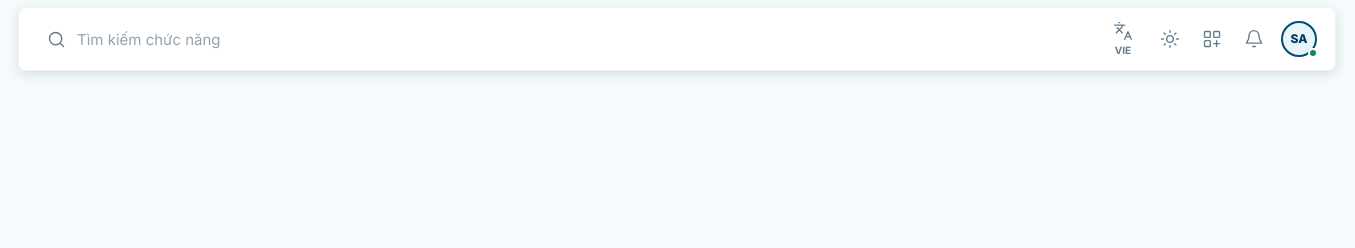
Test: AppTopbar › tìm kiếm chỉ gợi ý màn mà người dùng có quyền
The width and height of the screenshot is (1355, 248).
Focus the search field with placeholder "Tìm kiếm chức năng" at (576, 39), box 77,20 -> 1075,58
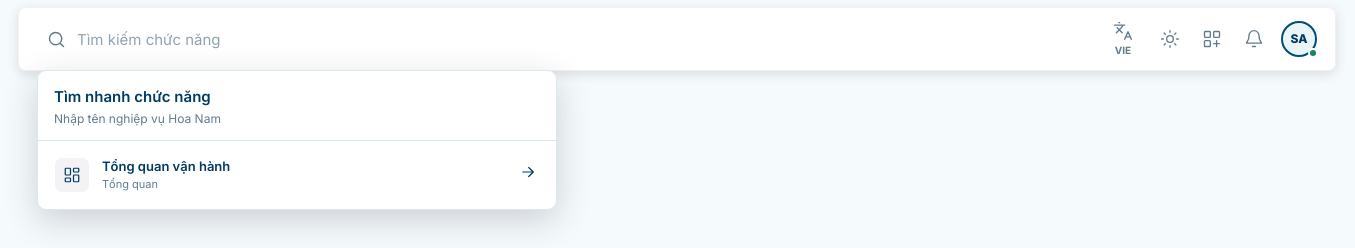
Check: the text "Tổng quan vận hành" is shown, box 102,158 -> 230,174
